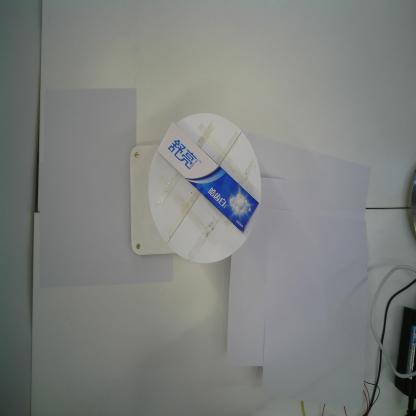Personal Hygiene: (157, 120, 260, 234)
